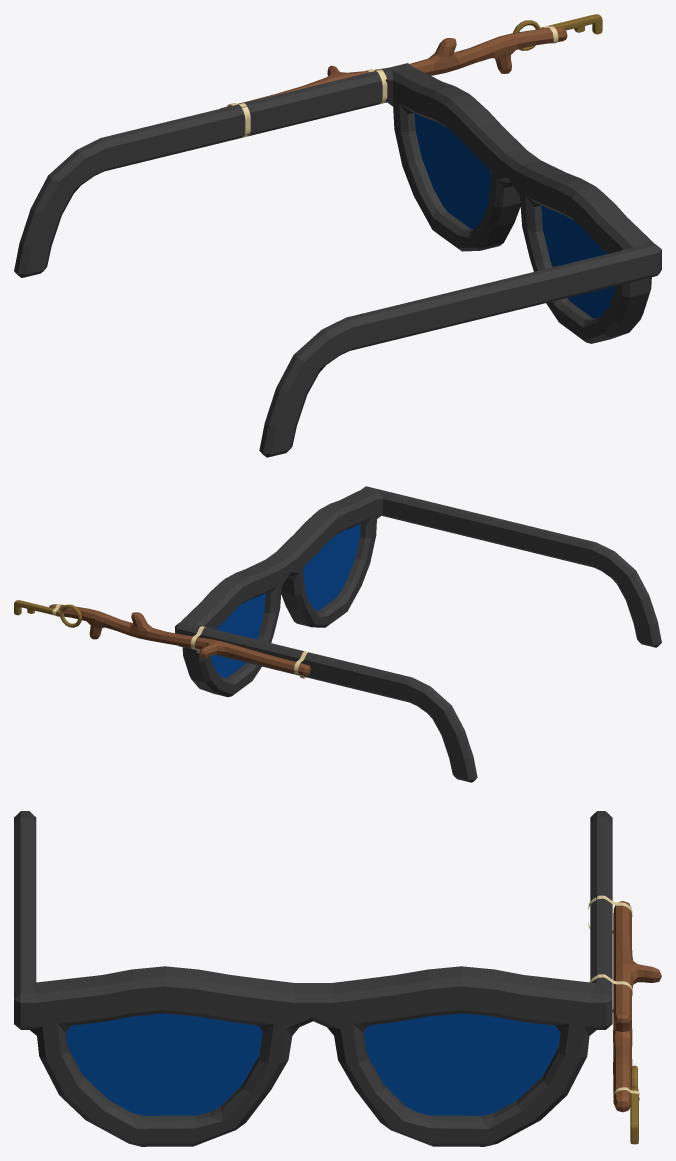
The model's file is brilSleutel.fbx.
3 views of the same model, one above another, from view 1: azimuth 30°, elevation 25°; view 2: azimuth 150°, elevation 25°; view 3: azimuth 270°, elevation 25° (orthographic). The views are drawn at different scales.
Visible parts, largest first — view 1: BrilSleutel; view 2: BrilSleutel; view 3: BrilSleutel.
Boxes of the visible parts, box(x1,y1,x2,y2) form: BrilSleutel: box(14, 14, 661, 457); BrilSleutel: box(14, 486, 661, 782); BrilSleutel: box(14, 811, 661, 1146).
Size of the model in its own units: 4092 by 941 by 3261.
